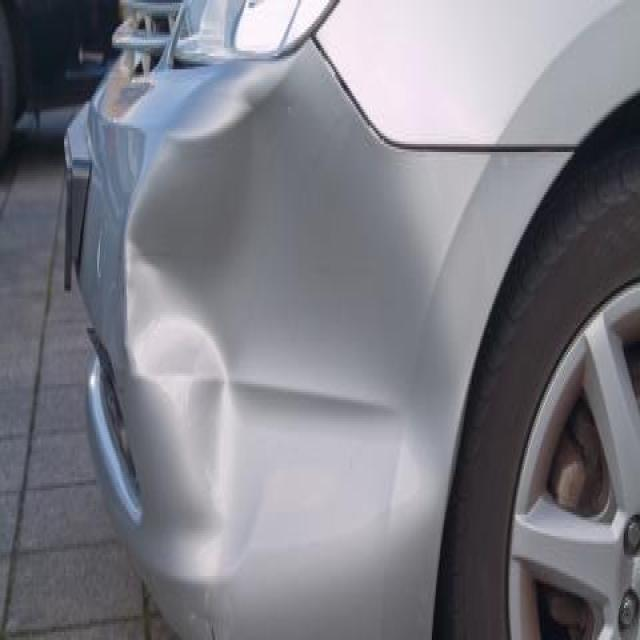dent: (114, 45, 464, 610)
